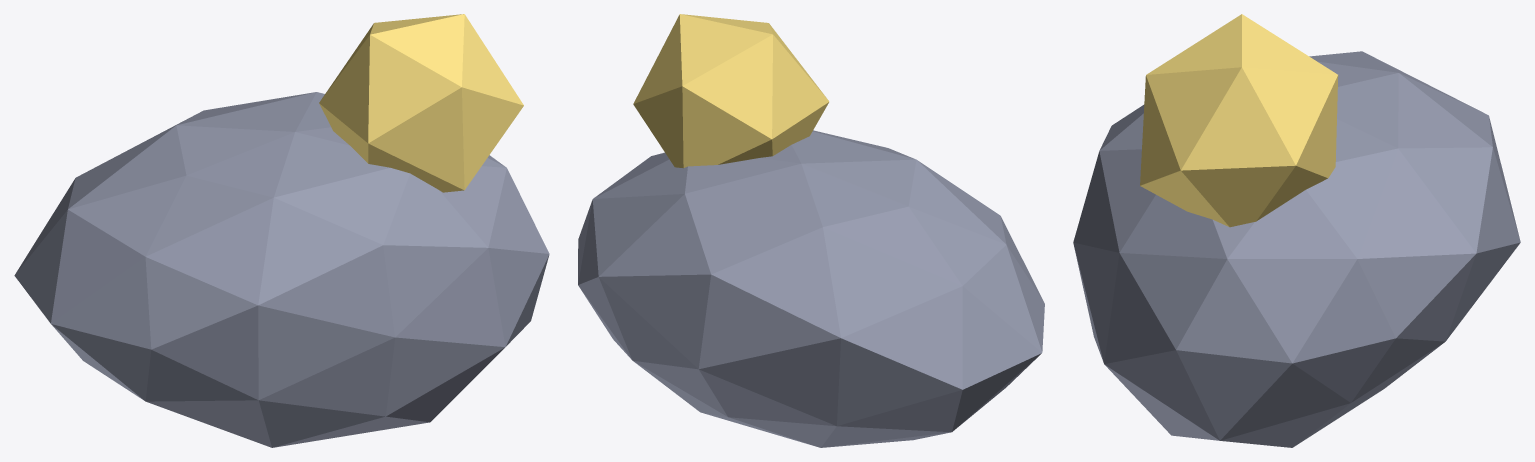
File: BigBadVacuumDebris.glb
3 views of the same model, side by side, from view 1: azimuth 30°, elevation 25°; view 2: azimuth 150°, elevation 25°; view 3: azimuth 270°, elevation 25° (orthographic). The views are drawn at different scales.
Parts seen in each view (by area): view 1: Chunk, Spark; view 2: Chunk, Spark; view 3: Chunk, Spark.
Part boxes in pixels (x1,y1,x2,y2): Chunk: (14,92,549,447); Spark: (319,14,523,192); Chunk: (578,130,1044,447); Spark: (633,14,829,168); Chunk: (1073,51,1520,447); Spark: (1140,14,1338,227).
Size of the model in its own units: 2.36 by 1.83 by 1.77.
